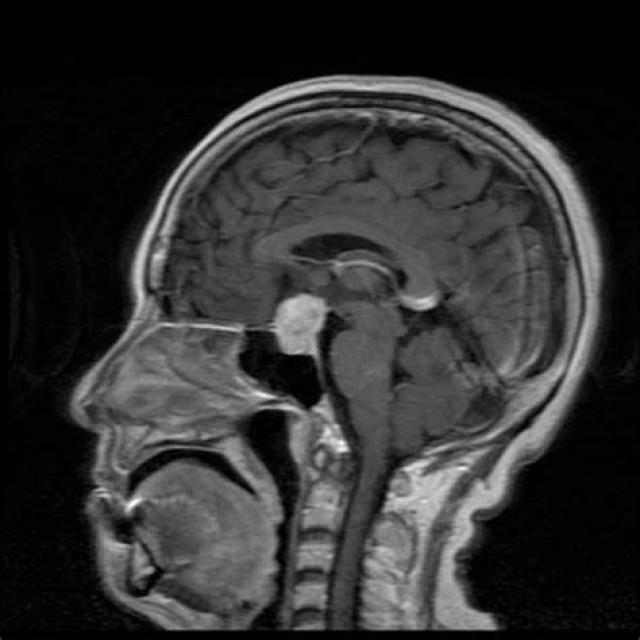brain_tumor: (273, 293, 328, 386)
